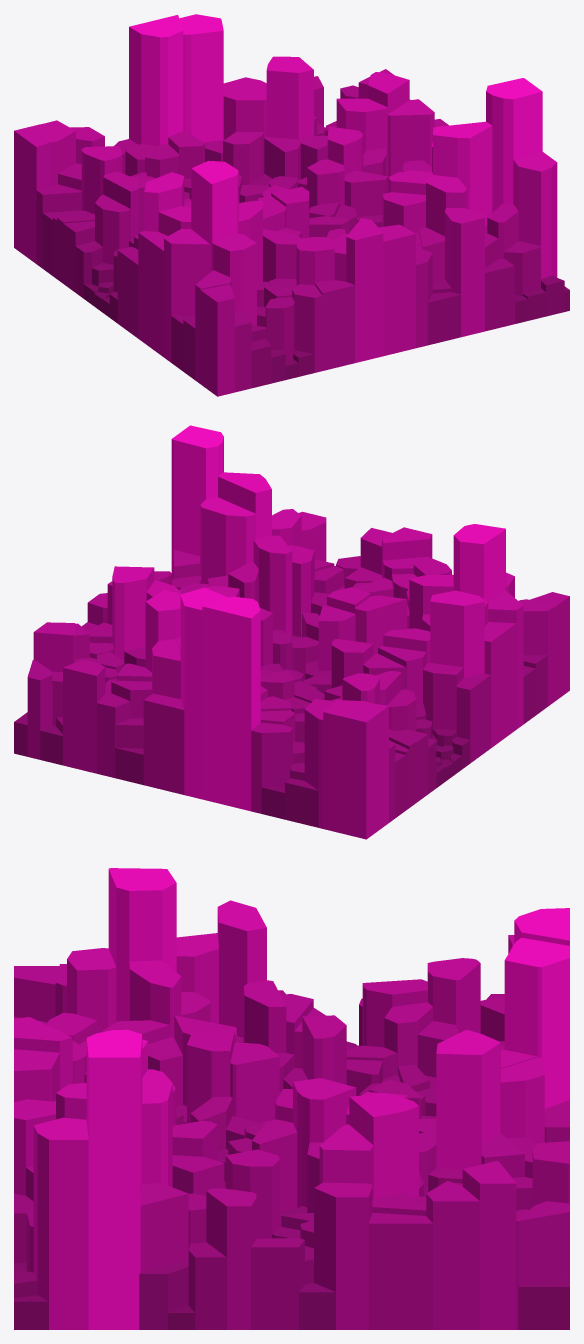
File: VTOWNpi.fbx
3 renders of one model, top to bottom at view 1: azimuth 30°, elevation 25°; view 2: azimuth 150°, elevation 25°; view 3: azimuth 270°, elevation 25°, orthographic. The views are drawn at different scales.
Parts seen in each view (by area): view 1: オブジェクト_251, オブジェクト_103, オブジェクト_214, オブジェクト_205, オブジェクト_207, オブジェクト_100, オブジェクト_177, オブジェクト_6, オブジェクト_211, オブジェクト_51, オブジェクト_206, オブジェクト_69 (+57 smaller); view 2: オブジェクト_251, オブジェクト_51, オブジェクト_103, オブジェクト_214, オブジェクト_159, オブジェクト_276, オブジェクト_179, オブジェクト_147, オブジェクト_230, オブジェクト_244, オブジェクト_200, オブジェクト_40 (+56 smaller); view 3: オブジェクト_103, オブジェクト_207, オブジェクト_214, オブジェクト_211, オブジェクト_37, オブジェクト_154, オブジェクト_230, オブジェクト_162, オブジェクト_58, オブジェクト_200, オブジェクト_161, オブジェクト_159 (+55 smaller).
Boxes of the visible parts, x1,y1,x2,y2 form: オブジェクト_251: [129, 15, 183, 146]; オブジェクト_103: [486, 78, 542, 212]; オブジェクト_214: [179, 14, 223, 142]; オブジェクト_205: [346, 218, 383, 362]; オブジェクト_207: [513, 151, 557, 279]; オブジェクト_100: [445, 208, 484, 337]; オブジェクト_177: [433, 121, 492, 226]; オブジェクト_6: [378, 224, 415, 356]; オブジェクト_211: [266, 56, 313, 139]; オブジェクト_51: [14, 124, 50, 263]; オブジェクト_206: [200, 284, 234, 396]; オブジェクト_69: [164, 229, 210, 362]; オブジェクト_251: [202, 596, 260, 811]; オブジェクト_51: [340, 703, 388, 839]; オブジェクト_103: [171, 425, 223, 580]; オブジェクト_214: [180, 587, 228, 799]; オブジェクト_159: [430, 590, 484, 677]; オブジェクト_276: [63, 659, 105, 773]; オブジェクト_179: [143, 693, 184, 794]; オブジェクト_147: [200, 497, 255, 583]; オブジェクト_230: [453, 524, 505, 601]; オブジェクト_244: [484, 622, 516, 747]; オブジェクト_200: [112, 566, 154, 660]; オブジェクト_40: [253, 535, 292, 634]; オブジェクト_103: [86, 1029, 142, 1329]; オブジェクト_207: [33, 1117, 88, 1329]; オブジェクト_214: [504, 937, 569, 1108]; オブジェクト_211: [436, 1029, 500, 1168]; オブジェクト_37: [368, 1212, 432, 1329]; オブジェクト_154: [314, 1182, 372, 1329]; オブジェクト_230: [108, 868, 176, 1021]; オブジェクト_162: [426, 1181, 479, 1329]; オブジェクト_58: [462, 1161, 516, 1329]; オブジェクト_200: [349, 1093, 418, 1198]; オブジェクト_161: [206, 1188, 256, 1329]; オブジェクト_159: [217, 900, 266, 1037].
Size of the model in its own units: 100 by 100 by 54.
